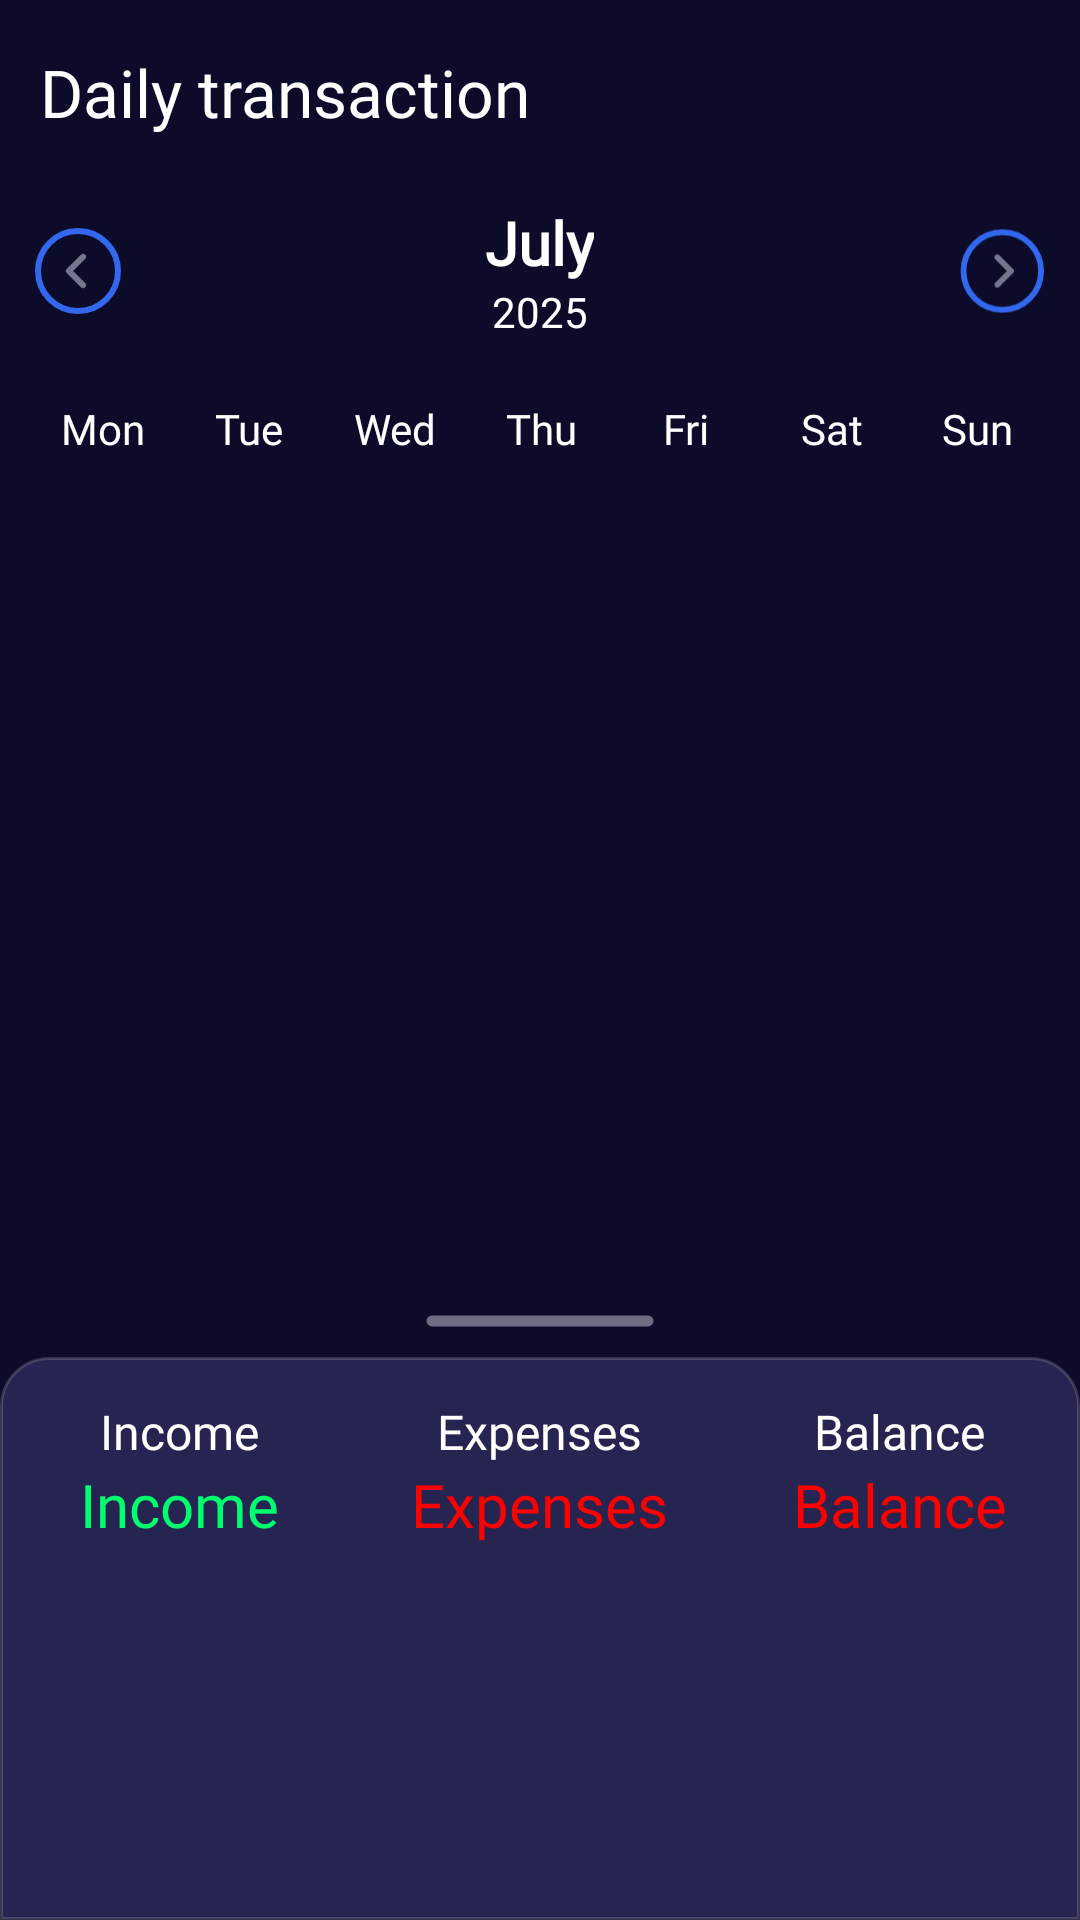

Icons on this 1080w x 1920h Android screen, each with the point to tap as [x,y]:
circle left: [78,271]
circle right: [1002,271]
